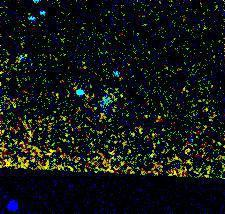star: (106, 78, 136, 108)
